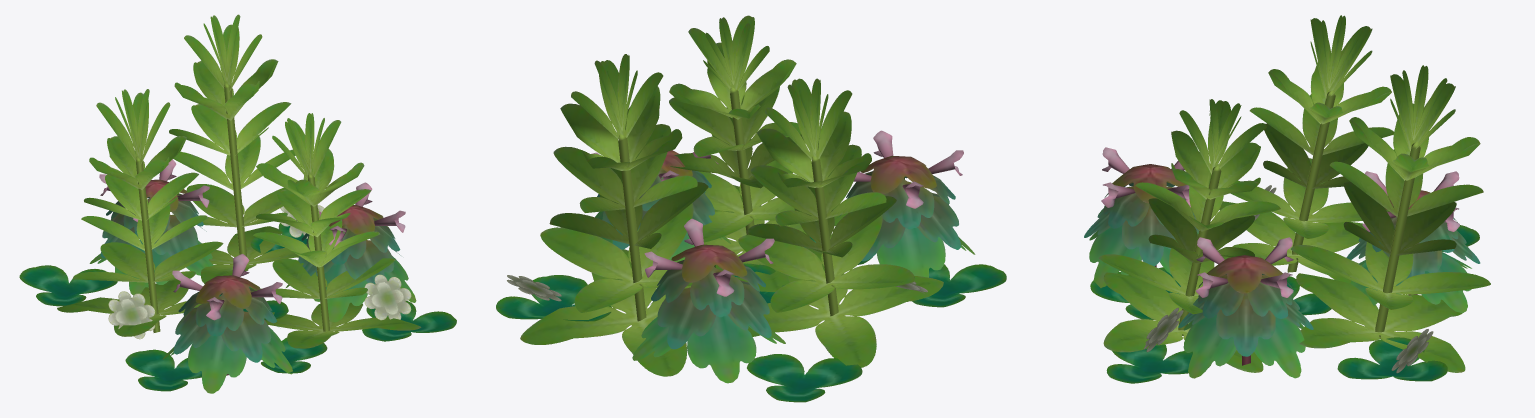
Rendered from weed-spring.glb.
3 renders of one model, left to right at view 1: azimuth 30°, elevation 25°; view 2: azimuth 150°, elevation 25°; view 3: azimuth 270°, elevation 25°, orthographic. The views are drawn at different scales.
Size of the model in its own units: 11.08 by 7.61 by 12.1.
Materials: 3 (3 with a texture image).
